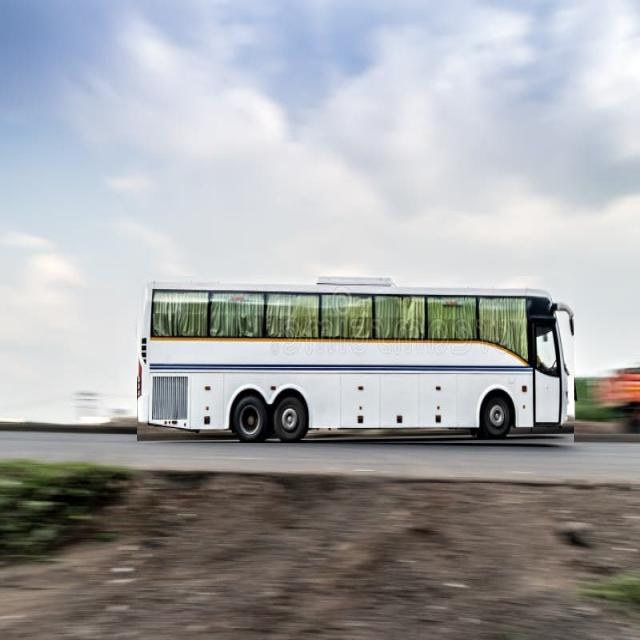bus: (138, 277, 574, 443)
